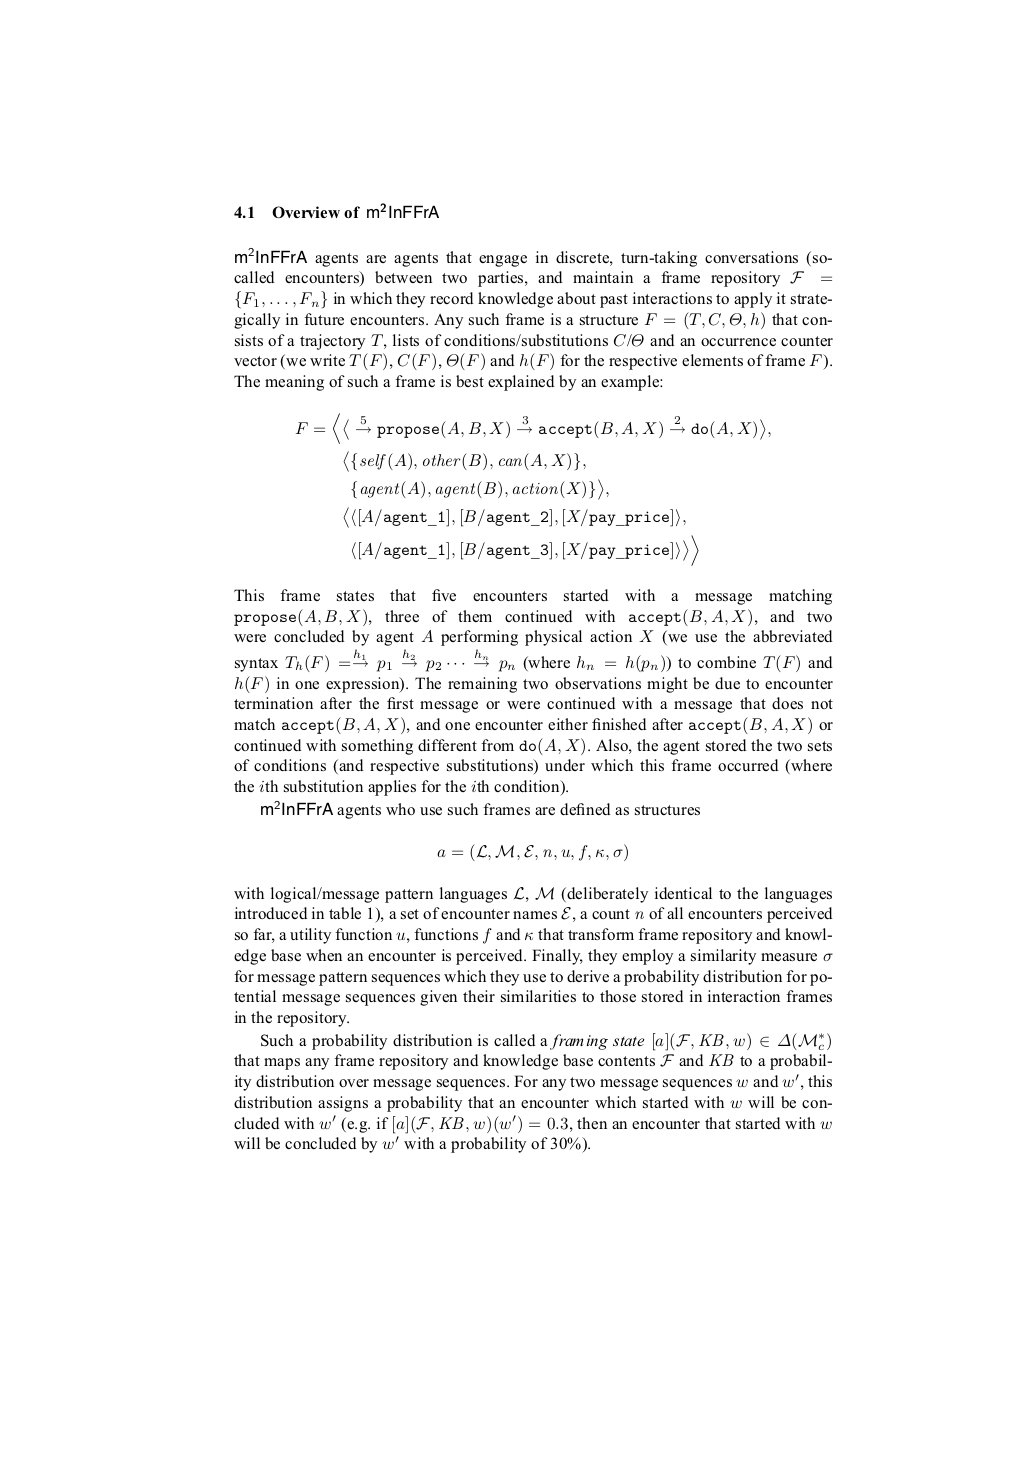formula: (295, 412, 770, 444), (351, 534, 698, 566), (343, 506, 685, 528), (351, 479, 608, 500), (343, 450, 585, 472), (437, 843, 627, 862)
